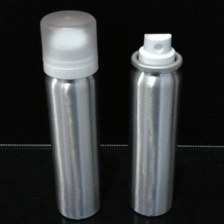aerosol_cans: (34, 5, 108, 222), (125, 29, 185, 221)
